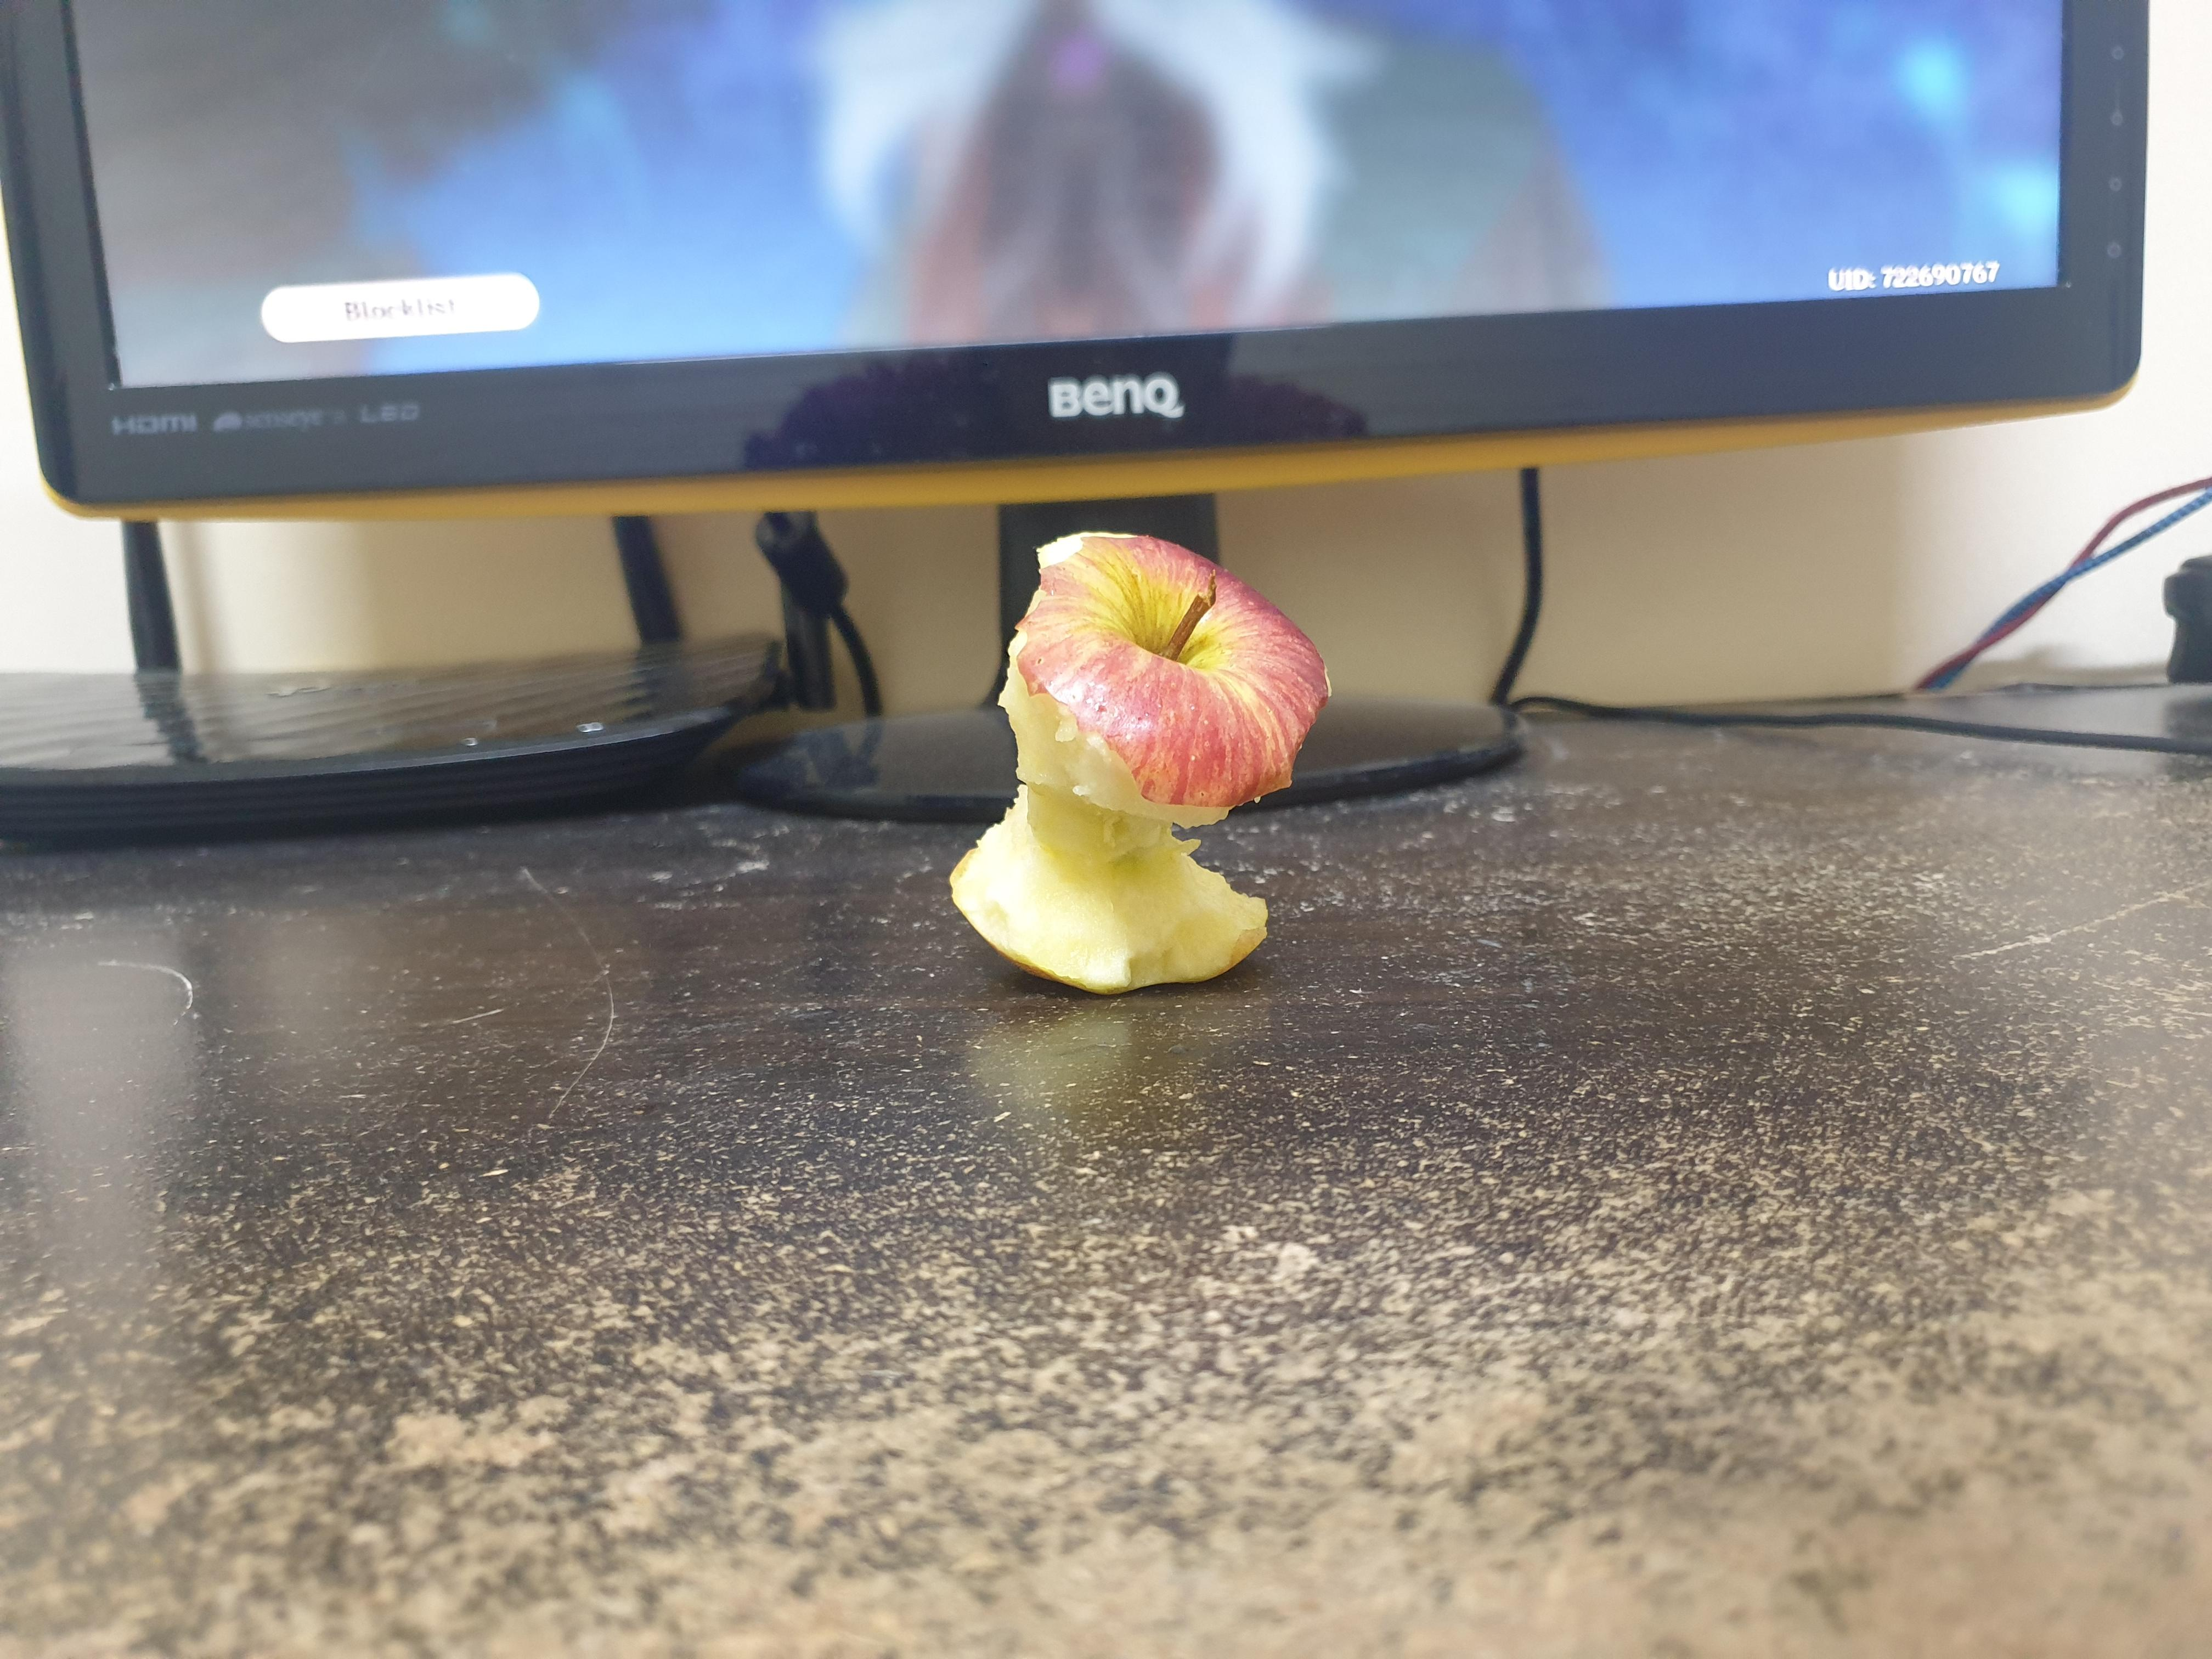Apple: (918, 488, 1364, 1035)
